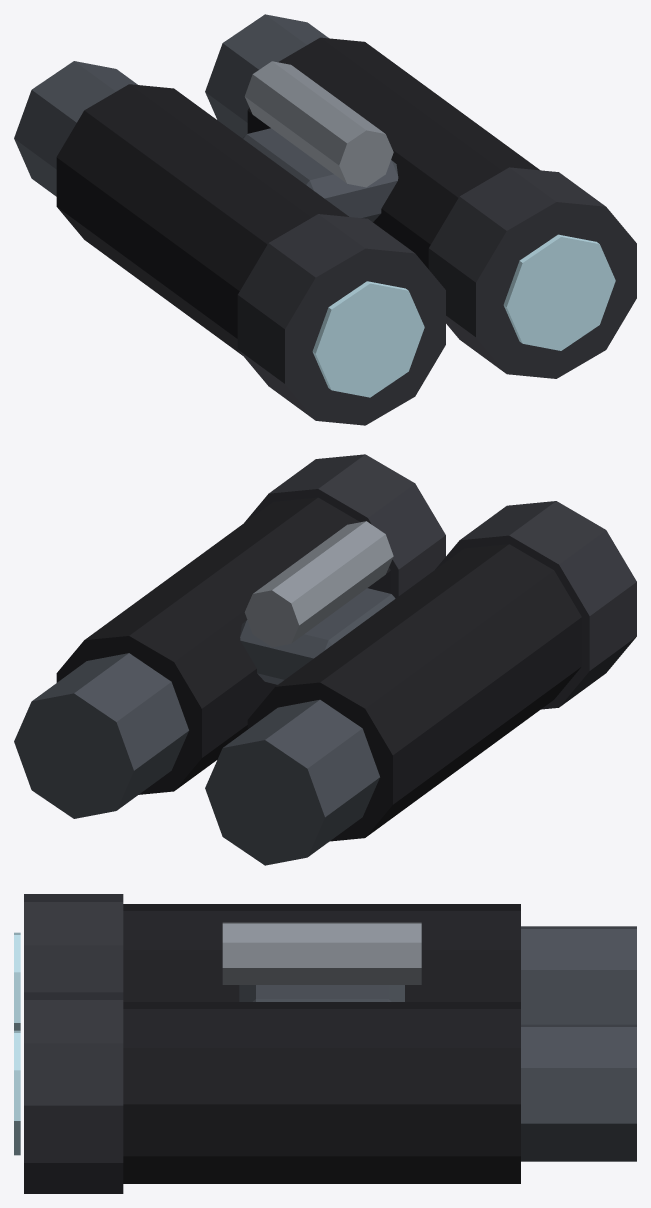
The model's file is SM_Binoculars.glb.
3 renders of one model, top to bottom at view 1: azimuth 30°, elevation 25°; view 2: azimuth 150°, elevation 25°; view 3: azimuth 270°, elevation 25°, orthographic. The views are drawn at different scales.
Visible parts, largest first — view 1: SM_Binoculars; view 2: SM_Binoculars; view 3: SM_Binoculars.
Boxes of the visible parts, <box> form: SM_Binoculars: <box>14,14,636,425</box>; SM_Binoculars: <box>14,454,636,865</box>; SM_Binoculars: <box>14,894,636,1193</box>.
Bounding box in the file's own units: 0.129 × 0.071 × 0.188.
Materials: 1 (1 with a texture image).
